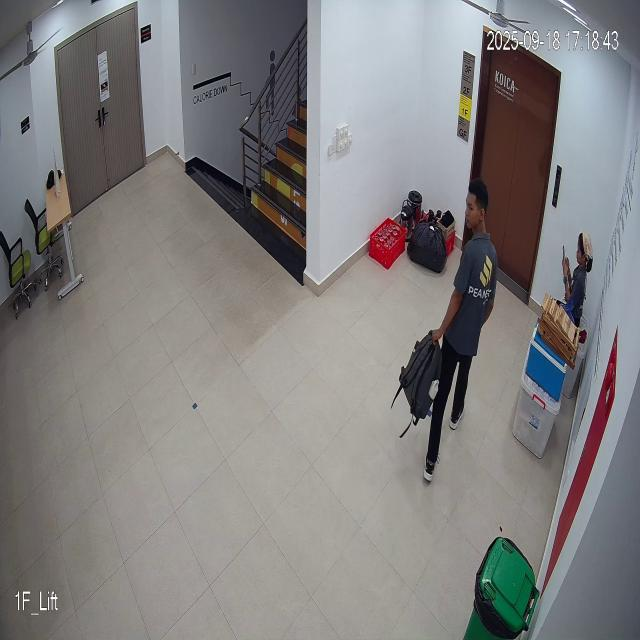face: (463, 178, 490, 234)
